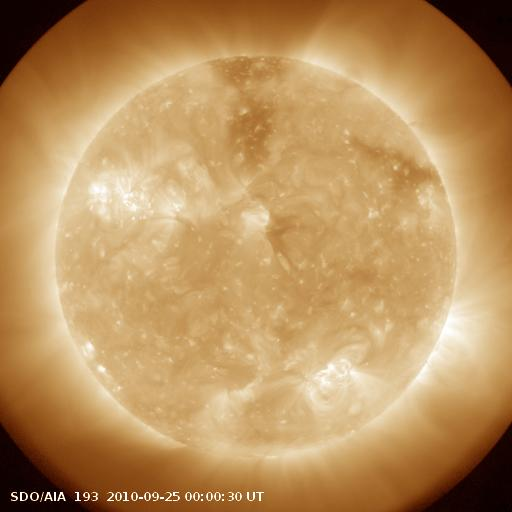coronal_hole: (207, 44, 304, 168), (353, 135, 449, 193)
